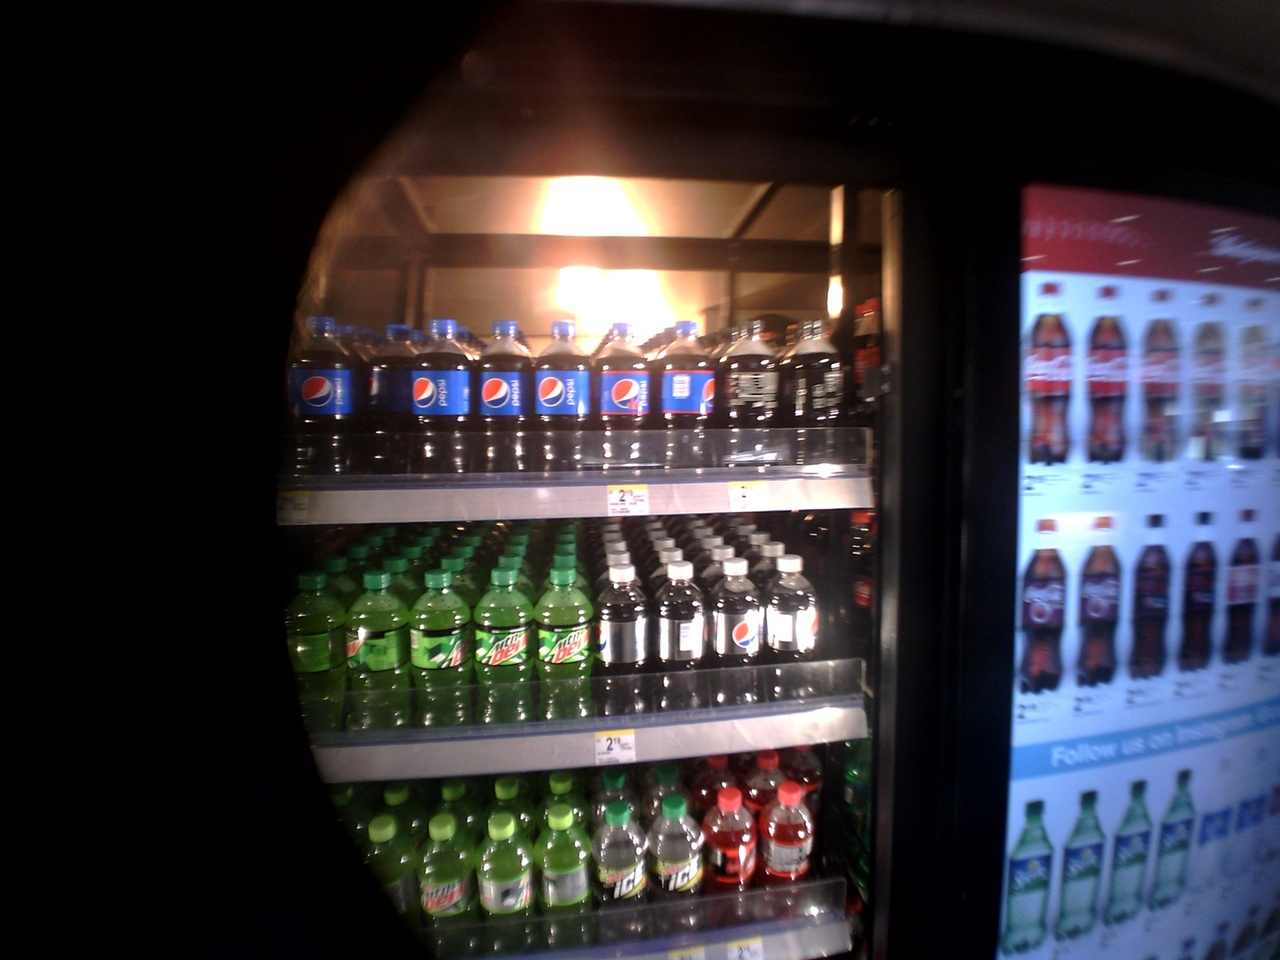shelf: (270, 517, 869, 783), (287, 293, 849, 523), (268, 756, 849, 947)
